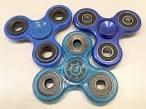fidget_spinner: (47, 30, 140, 108), (73, 2, 142, 66), (0, 3, 65, 64)
